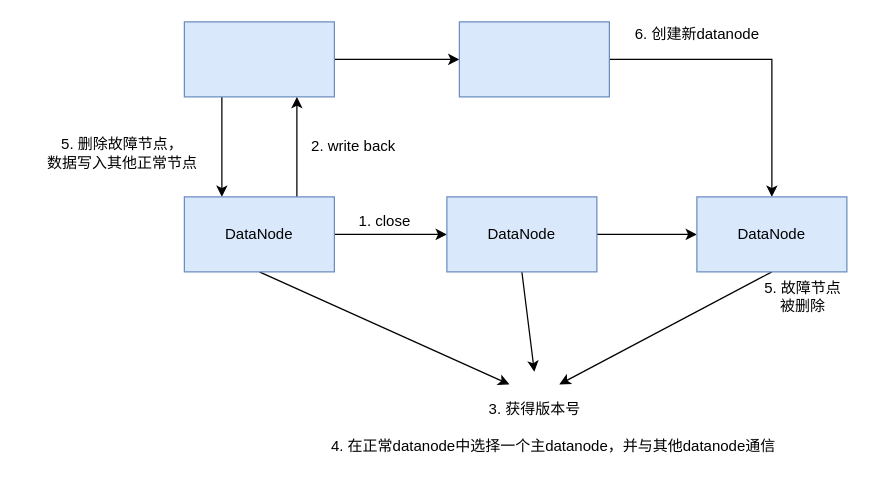
The diagram is 869 pixels wide and 481 high, and some of its shapes have lost their labels. Here are the shapes that lost their labels. From the top down, the box of each, then its label:
(183, 21, 334, 97): DFSOutputStream
(458, 21, 609, 97): NameNode
